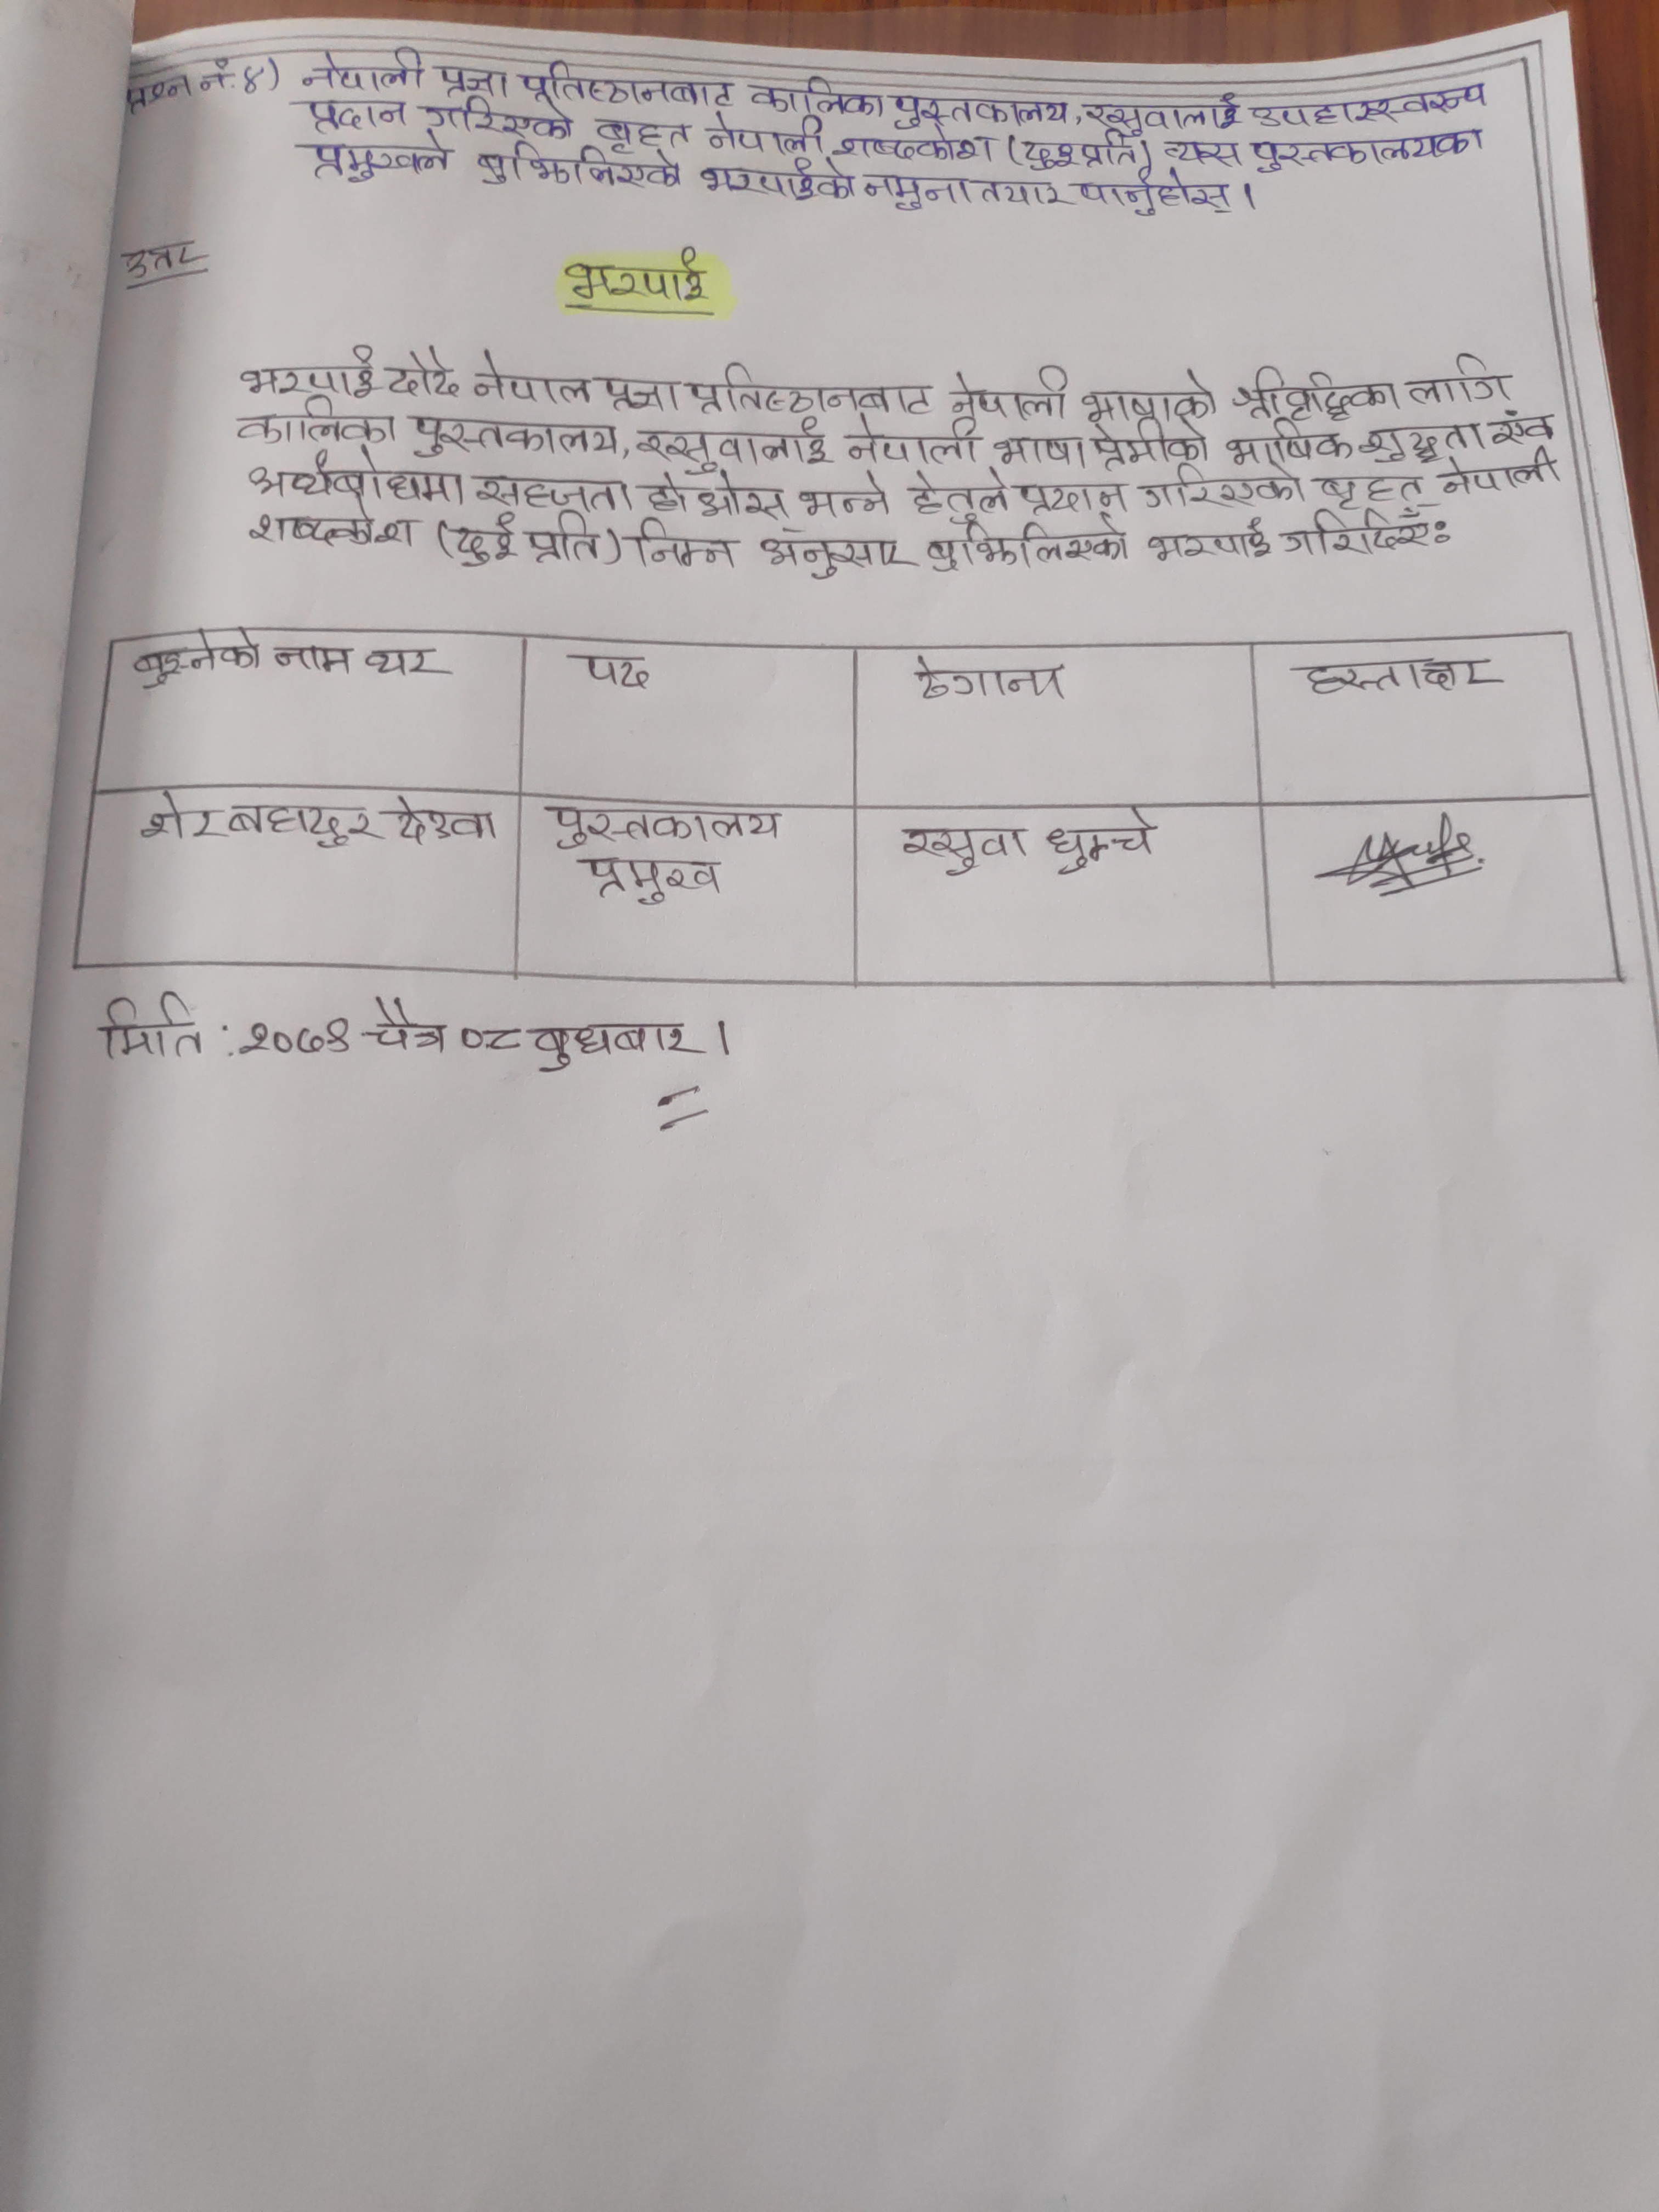text: (692, 361, 934, 420), (127, 791, 380, 846), (246, 446, 474, 507), (467, 138, 687, 197), (538, 799, 784, 852), (1244, 124, 1493, 174), (924, 514, 1134, 573), (518, 59, 734, 115), (408, 409, 620, 462), (645, 463, 798, 535), (1300, 650, 1509, 702), (1244, 82, 1493, 125), (859, 162, 1073, 211), (1232, 361, 1403, 420), (532, 1017, 701, 1075), (631, 425, 831, 472), (563, 247, 713, 310), (910, 648, 1068, 705), (584, 848, 730, 909), (697, 152, 861, 206), (1140, 462, 1307, 512), (1072, 167, 1244, 216), (232, 395, 403, 444), (840, 411, 983, 469), (247, 502, 422, 549), (753, 528, 908, 580), (423, 92, 575, 145), (305, 136, 457, 188), (98, 989, 206, 1062), (239, 345, 380, 401), (125, 631, 265, 686), (824, 124, 1002, 165), (476, 470, 638, 516), (943, 364, 1070, 421), (885, 92, 1073, 131), (1084, 369, 1222, 421), (1044, 810, 1155, 874), (748, 71, 889, 122), (464, 352, 591, 408), (1084, 416, 1215, 470), (1281, 516, 1436, 561), (1441, 444, 1563, 502), (1084, 92, 1249, 134), (627, 512, 741, 573), (899, 824, 1026, 876), (1143, 517, 1274, 568), (300, 42, 429, 92), (1222, 418, 1354, 467), (1398, 352, 1514, 406), (901, 469, 1014, 523), (387, 791, 498, 845), (706, 110, 833, 157), (232, 1008, 362, 1054), (1359, 416, 1488, 462), (362, 993, 453, 1057), (795, 469, 899, 523), (1019, 127, 1140, 172), (1314, 470, 1441, 512), (525, 510, 606, 570), (1016, 481, 1131, 521), (303, 96, 410, 138), (591, 111, 697, 152), (385, 347, 464, 401), (995, 428, 1086, 472), (594, 369, 683, 413), (115, 242, 209, 282), (572, 648, 653, 693), (1154, 132, 1246, 172), (450, 512, 516, 568), (430, 56, 512, 99), (362, 641, 441, 686), (1488, 406, 1563, 451), (119, 71, 192, 117), (272, 643, 357, 681), (457, 1019, 528, 1059), (190, 57, 240, 99)
